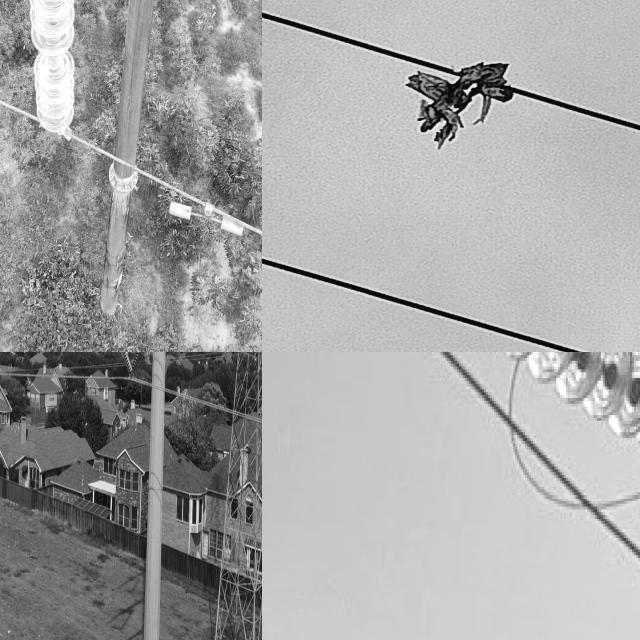杆塔: (209, 352, 262, 640)
植被遮挡: (399, 58, 522, 155)
正常电缆: (0, 90, 262, 249)
正常绝缘子: (29, 0, 90, 138), (123, 352, 144, 395), (118, 352, 139, 385)
绝缘子破损: (38, 56, 68, 64)
